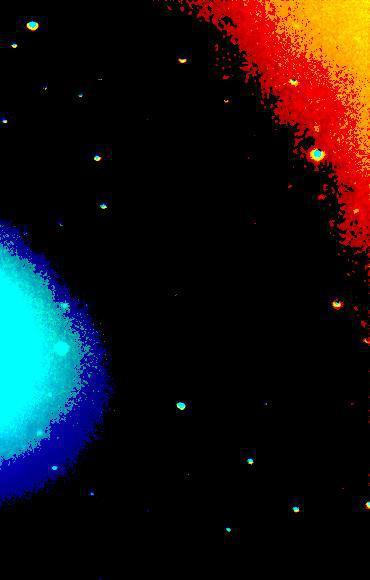star: (328, 324, 358, 354)
